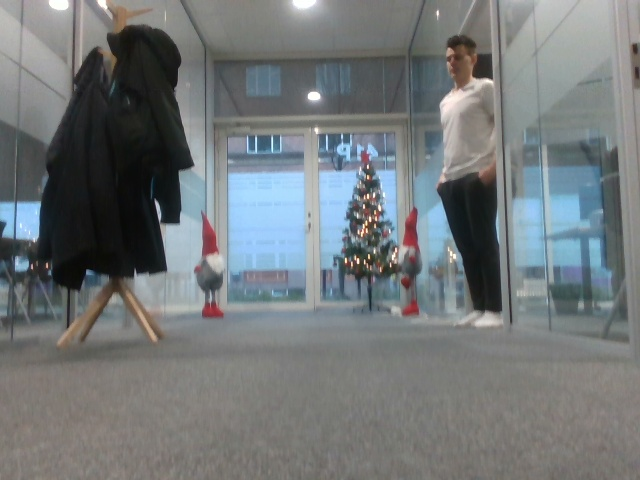alfa: (16, 301, 45, 327)
